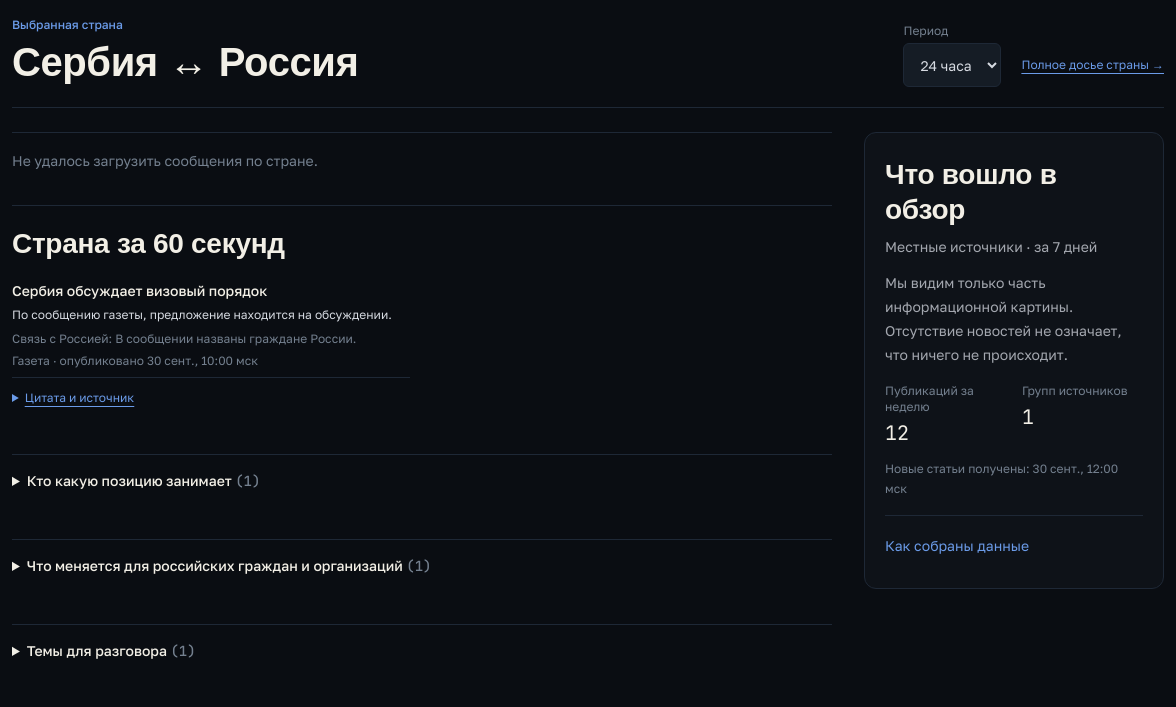
Scenario: DecisionWorkspace › puts a position's own quote first and keeps legacy source quotes when supporting excerpts are absent
(page scrolled)
Expected: the heading "Сербия ↔ Россия" is shown, [12,37,358,87]
Click the heading "Кто какую позицию занимает (1)".
click(144, 481)  # box [27,472,260,490]
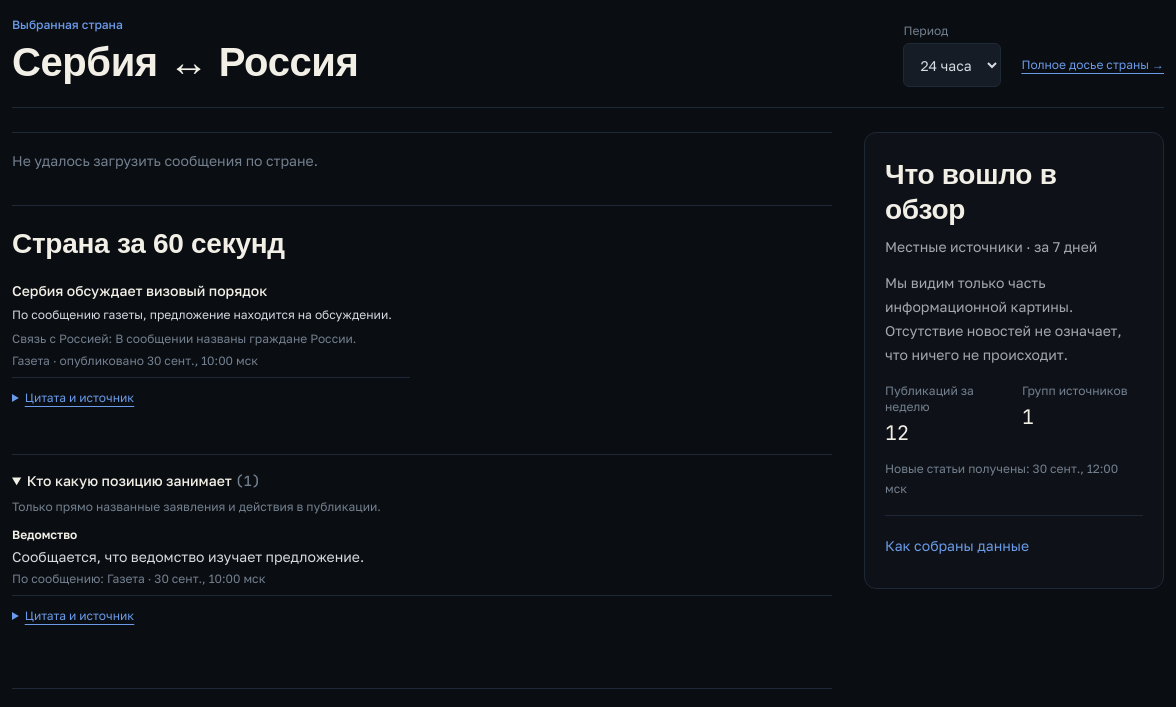
Click the heading "Цитата и источник" below "По сообщению:".
click(73, 616)  # box [12,604,134,628]
(page scrolled)
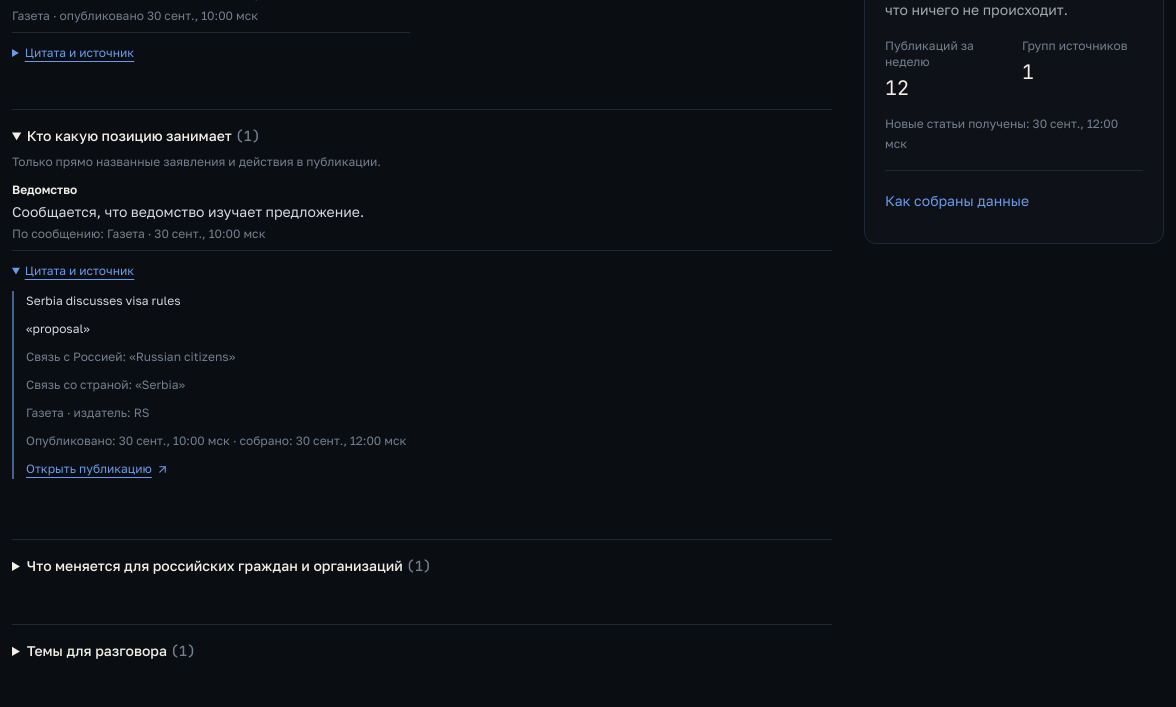
Now the text "«proposal»" is shown, box [26,321,90,336]
Now the text "Связь с Россией: «Russian citizens»" is shown, box [26,349,235,364]
Now the text "Связь со страной: «Serbia»" is shown, box [26,377,185,392]
